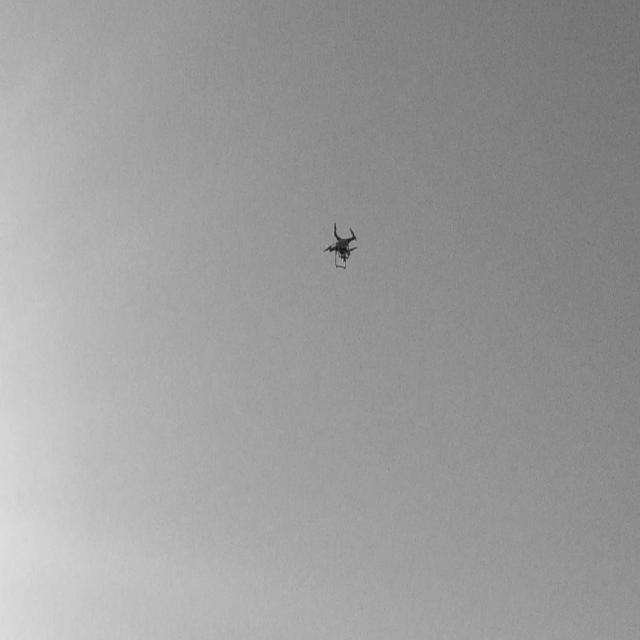drone: (324, 222, 359, 274)
